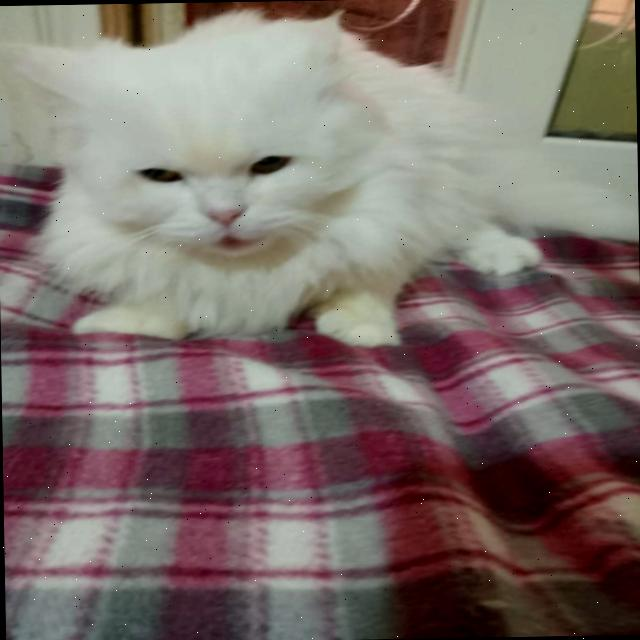persian_cat: (6, 2, 393, 282)
